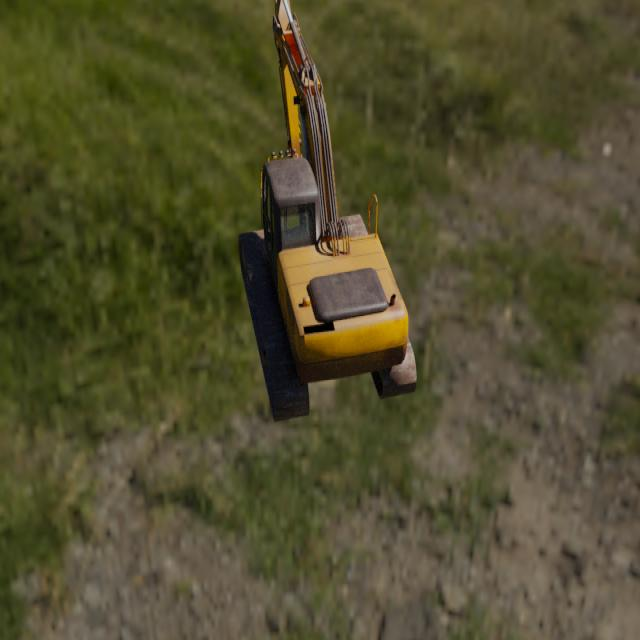excavator: (237, 0, 416, 424)
